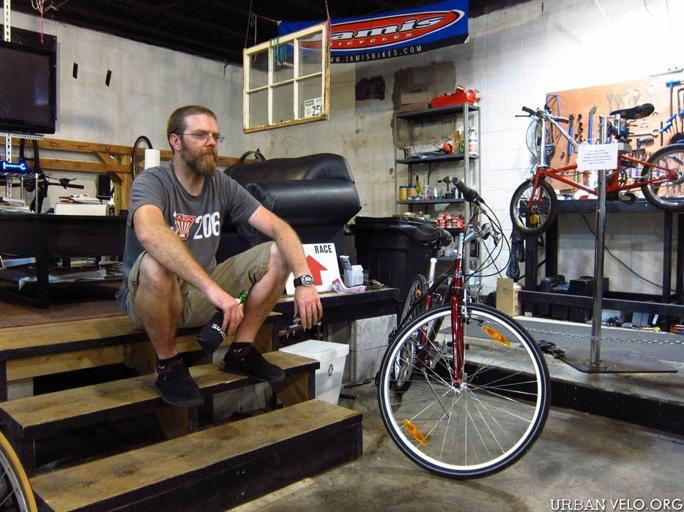non-vehicle: (366, 171, 552, 485), (503, 99, 683, 236), (0, 423, 41, 512)
